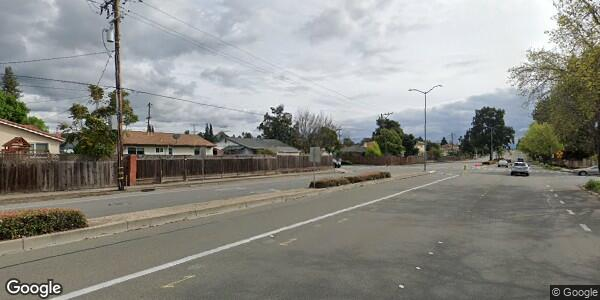Steel_Pole: (407, 83, 443, 171)
Wood_Pole: (96, 1, 137, 190)
